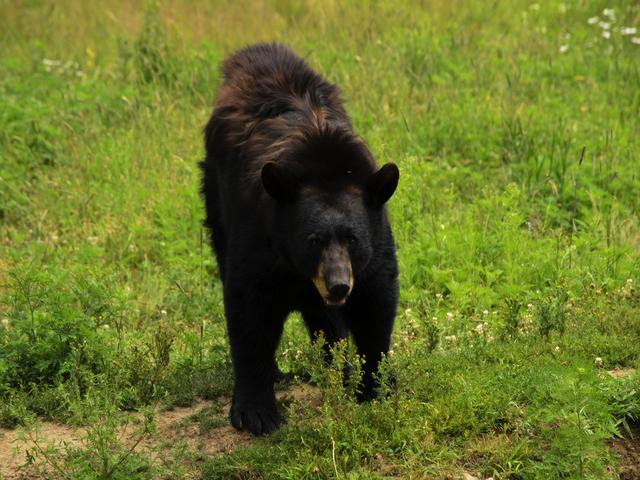Bear: (173, 37, 412, 410)
